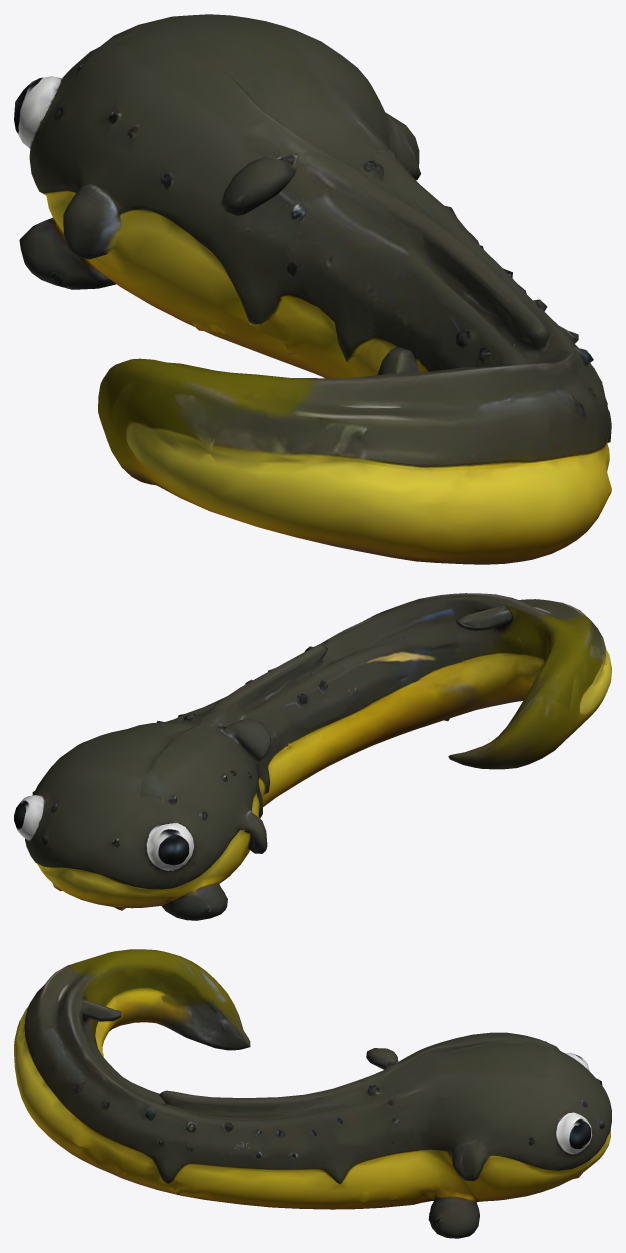
File: eel.glb
The picture shows the model from 3 angles, top to bottom: view 1: azimuth 30°, elevation 25°; view 2: azimuth 150°, elevation 25°; view 3: azimuth 270°, elevation 25°; orthographic projection. The views are drawn at different scales.
Visible parts, largest first — view 1: tripo_node_8794b977-4690-4a1e-aeca-d661a4aa05cc; view 2: tripo_node_8794b977-4690-4a1e-aeca-d661a4aa05cc; view 3: tripo_node_8794b977-4690-4a1e-aeca-d661a4aa05cc.
Boxes of the visible parts, x1,y1,x2,y2 form: tripo_node_8794b977-4690-4a1e-aeca-d661a4aa05cc: (14, 14, 611, 564); tripo_node_8794b977-4690-4a1e-aeca-d661a4aa05cc: (14, 593, 611, 920); tripo_node_8794b977-4690-4a1e-aeca-d661a4aa05cc: (14, 949, 611, 1238).
Size of the model in its own units: 0.6117 by 0.285 by 0.9997.
1 material, 1 textured.
